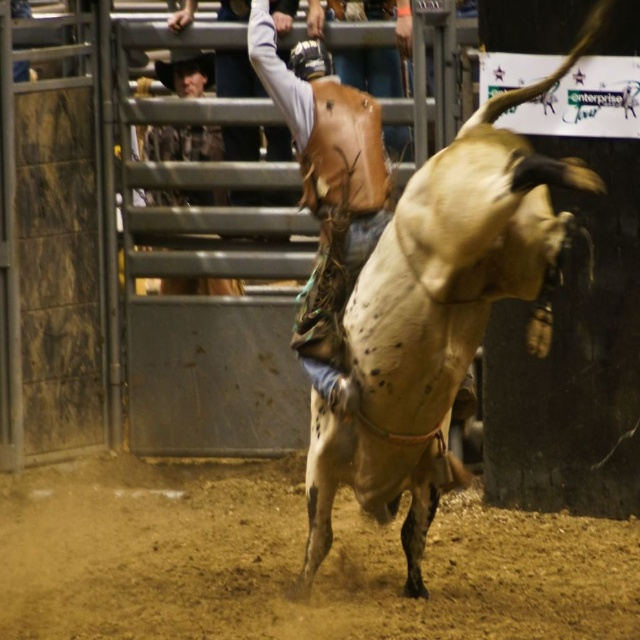Bull: (292, 2, 606, 608)
